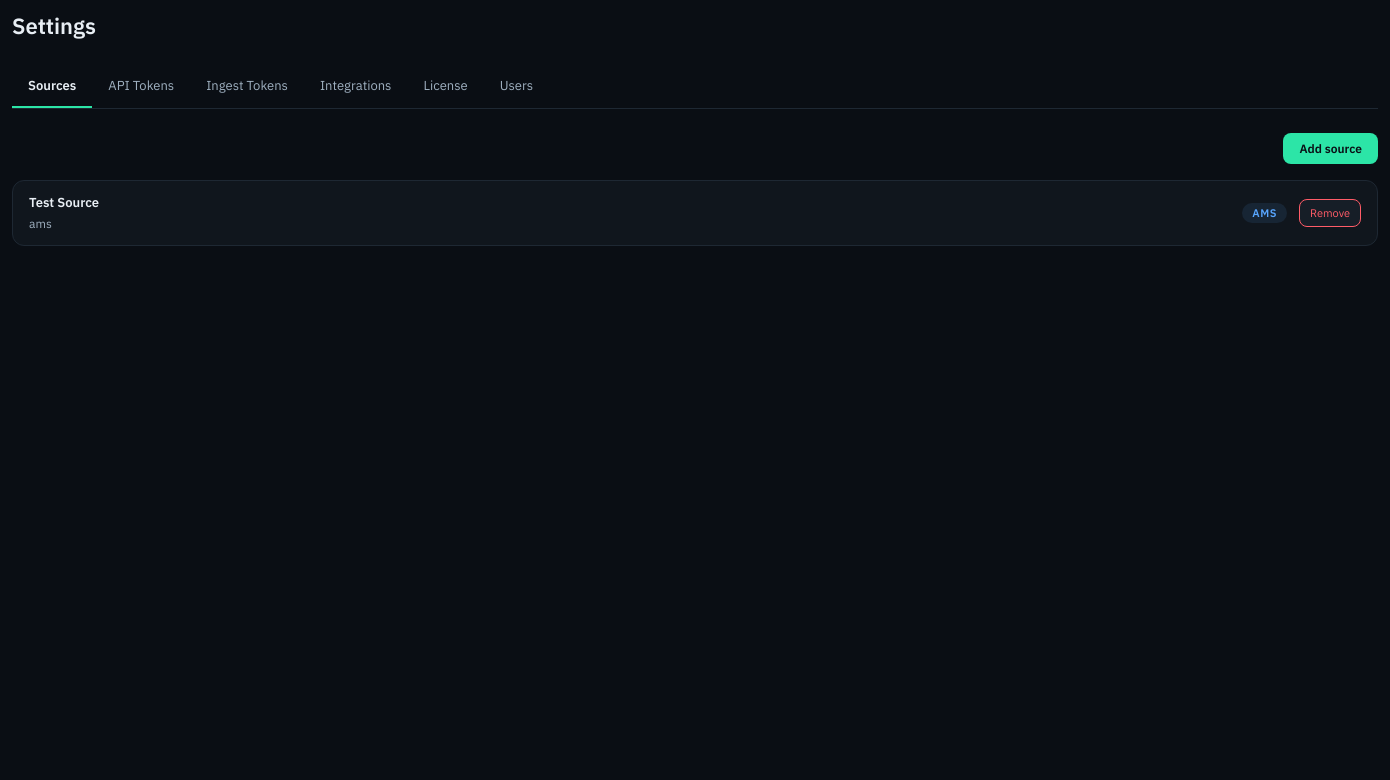
Test case: SettingsPage — API errors surface a toast (S73/D-139 [8]) › deleteSource failure shows an error toast instead of silently swallowing it
This screenshot has width=1390, height=780.
Note: Wait for the loaded source row, then click its Remove button.
Click the button "Remove" at (1330, 213), box x1=1299 y1=199 x2=1361 y2=227
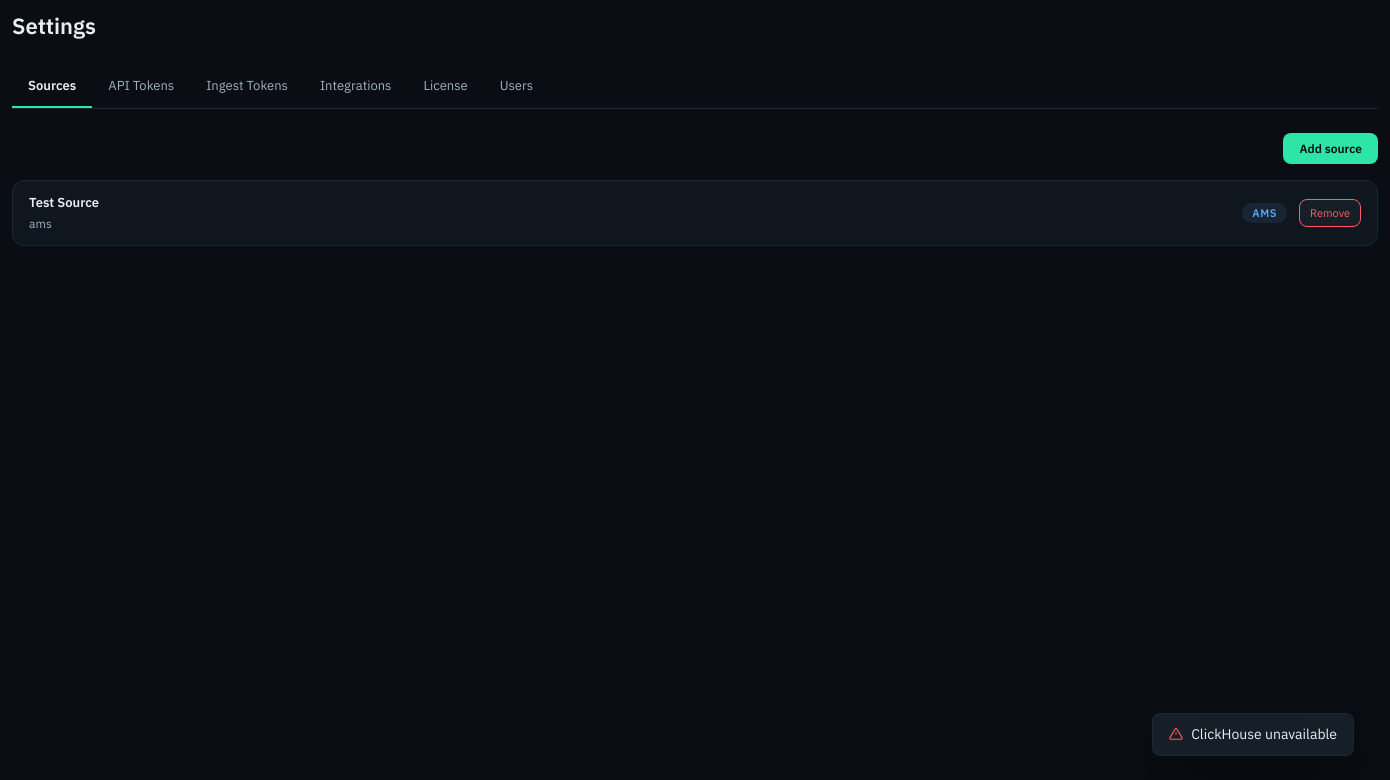
Check: the text "ClickHouse unavailable" is shown, box x1=1152 y1=713 x2=1354 y2=756
